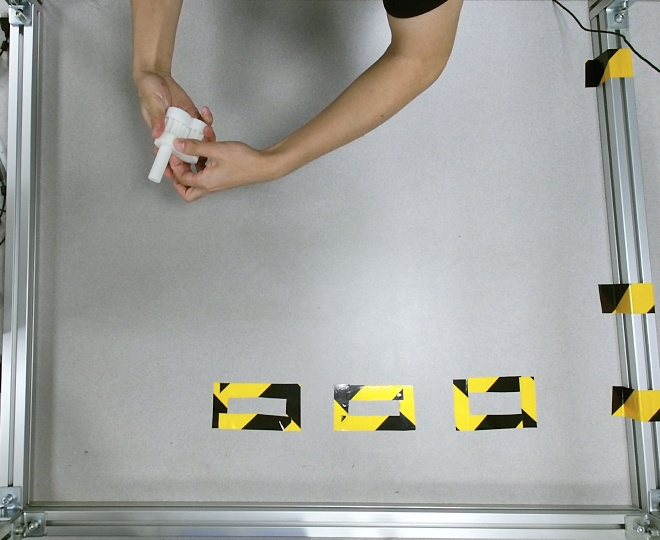stage_4: (145, 107, 207, 179)
